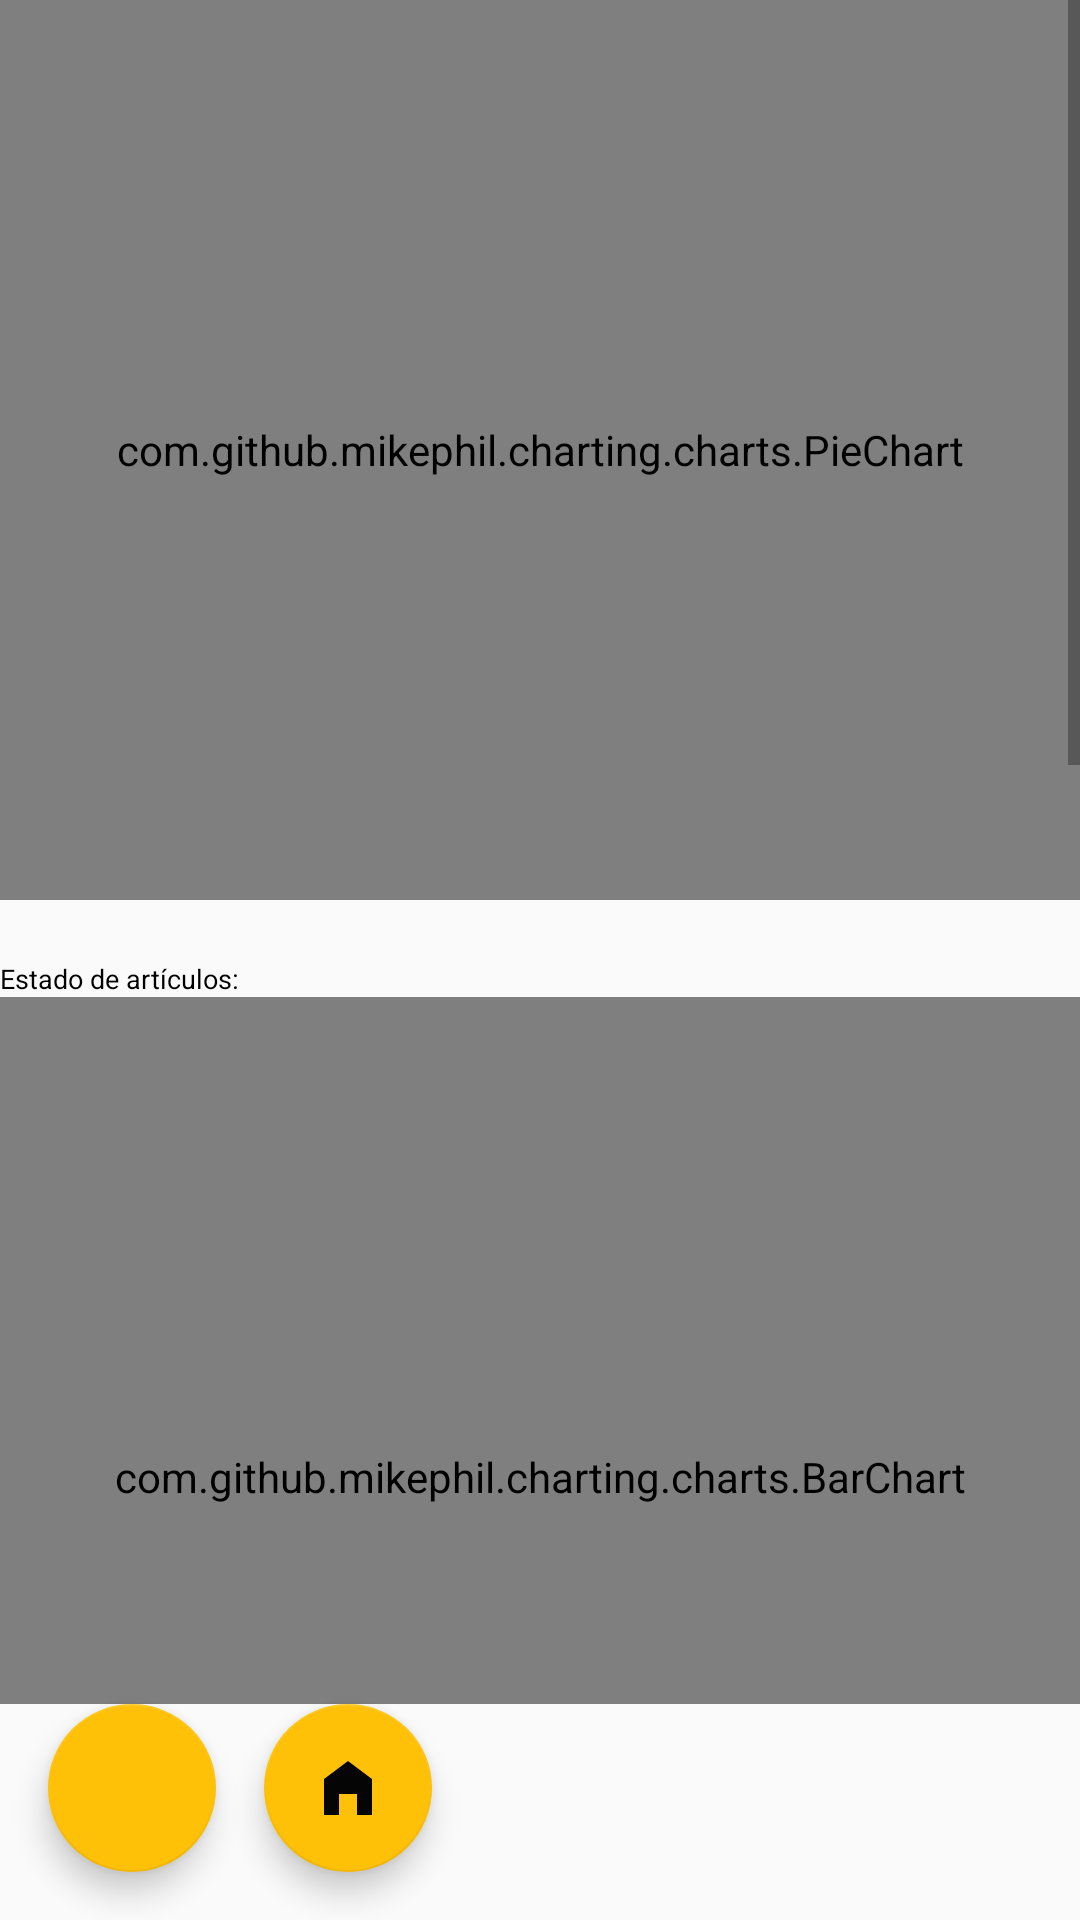

Named icons in this screenshot (1080 x 1920) and their centers, point (x, y):
home: point (348, 1788)
